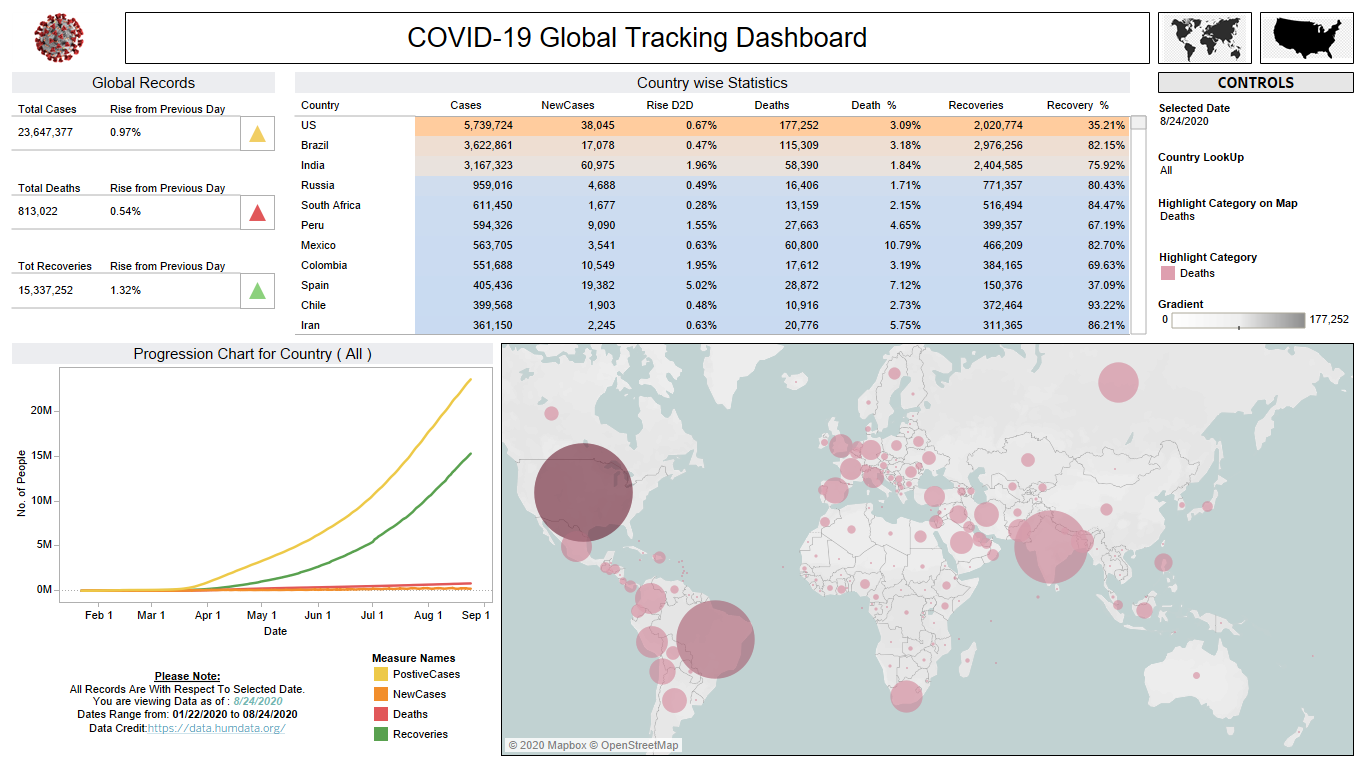

Layout of this report page (visuals, bound fields, positions):
{"tool":"tableau","page":{"name":"COVID 19 Global","canvas":[1366,768],"ordinal":0},"visuals":[{"type":"worksheet","box":[0,0,1366,768]},{"type":"worksheet","param":"Image/Covid.jpg","box":[8,8,113,60]},{"type":"worksheet","box":[121,8,1033,60]},{"type":"worksheet","box":[1154,8,102,60]},{"type":"worksheet","box":[1256,8,102,60]},{"type":"worksheet","param":"horz","box":[8,68,1350,692]},{"type":"worksheet","param":"horz","box":[8,68,1350,692]},{"type":"worksheet","param":"horz","box":[8,68,1350,692]},{"type":"worksheet","param":"horz","box":[8,68,1350,692]},{"type":"worksheet","box":[8,68,1350,692]},{"type":"worksheet","title":"CaseTotals","mark":"Shape","rows":["FilteredCases (copy)_3779927482044694597","PercentageIncrease (copy)_3779927482044989510"],"box":[8,68,283,103]},{"type":"worksheet","title":"Global_Stats","mark":"Square","rows":["Country/Region"],"box":[291,68,863,271]},{"type":"worksheet","box":[1154,68,204,29.4]},{"type":"worksheet","param":"[Parameters].[Parameter 4]","box":[1154,97.4,204,48.6]},{"type":"worksheet","title":"Global_Stats","mark":"Square","rows":["Country/Region"],"param":"[federated.04nyu6610ocu1014xocmu12nmko5].[none:Country/Region:nk]","box":[1154,146,204,46]},{"type":"worksheet","title":"Deaths Total","mark":"Shape","rows":["FilteredDeath (copy)_3779927482055270474","Rise from Previous Day (copy)_3779927482054066249"],"box":[8,171,283,78.3]},{"type":"worksheet","param":"[Parameters].[Parameter 1]","box":[1154,192,204,53]},{"type":"worksheet","title":"Global_Map","mark":"Automatic","param":"[Parameters].[Parameter 1]","box":[1154,245,204,45]},{"type":"worksheet","title":"Recovery Total","mark":"Shape","rows":["Recoveries (copy)_3779927482058285132","Rise from Previous Day  (copy)_3779927482057850955"],"box":[8,249.3,283,89.7]},{"type":"worksheet","title":"Global_Map","mark":"Automatic","param":"[federated.04nyu6610ocu1014xocmu12nmko5].[usr:Calculation_3779927481547759651:qk","box":[1154,290,204,49]},{"type":"worksheet","param":"horz","box":[8,339,1350,421]},{"type":"worksheet","box":[8,339,1350,421]},{"type":"worksheet","title":"Graph All","mark":"Line","cols":["Dates (copy)_3779927482076209234"],"box":[8,339,489,306.6]},{"type":"worksheet","title":"Global_Map","mark":"Automatic","box":[497,339,861,421]},{"type":"worksheet","box":[8,645.6,359,114.4]},{"type":"worksheet","title":"Graph All","mark":"Line","cols":["Dates (copy)_3779927482076209234"],"param":"[federated.04nyu6610ocu1014xocmu12nmko5].[:Measure Names]","box":[367,645.6,130,114.4]}]}

Visuals, with their boxes in screenshot pixels (x1, y1, x2, y2), scaled from the page's 1366x768 canvas onto the 1366x768 screenshot:
worksheet: [x1=0, y1=0, x2=1365, y2=767]
worksheet: [x1=8, y1=8, x2=121, y2=68]
worksheet: [x1=121, y1=8, x2=1154, y2=68]
worksheet: [x1=1154, y1=8, x2=1256, y2=68]
worksheet: [x1=1256, y1=8, x2=1358, y2=68]
worksheet: [x1=8, y1=68, x2=1358, y2=760]
worksheet: [x1=8, y1=68, x2=1358, y2=760]
worksheet: [x1=8, y1=68, x2=1358, y2=760]
worksheet: [x1=8, y1=68, x2=1358, y2=760]
worksheet: [x1=8, y1=68, x2=1358, y2=760]
"CaseTotals" worksheet (Shape marks): [x1=8, y1=68, x2=291, y2=171]
"Global_Stats" worksheet (Square marks): [x1=291, y1=68, x2=1154, y2=339]
worksheet: [x1=1154, y1=68, x2=1358, y2=97]
worksheet: [x1=1154, y1=97, x2=1358, y2=146]
"Global_Stats" worksheet (Square marks): [x1=1154, y1=146, x2=1358, y2=192]
"Deaths Total" worksheet (Shape marks): [x1=8, y1=171, x2=291, y2=249]
worksheet: [x1=1154, y1=192, x2=1358, y2=245]
"Global_Map" worksheet: [x1=1154, y1=245, x2=1358, y2=290]
"Recovery Total" worksheet (Shape marks): [x1=8, y1=249, x2=291, y2=339]
"Global_Map" worksheet: [x1=1154, y1=290, x2=1358, y2=339]
worksheet: [x1=8, y1=339, x2=1358, y2=760]
worksheet: [x1=8, y1=339, x2=1358, y2=760]
"Graph All" worksheet (Line marks): [x1=8, y1=339, x2=497, y2=646]
"Global_Map" worksheet: [x1=497, y1=339, x2=1358, y2=760]
worksheet: [x1=8, y1=646, x2=367, y2=760]
"Graph All" worksheet (Line marks): [x1=367, y1=646, x2=497, y2=760]
